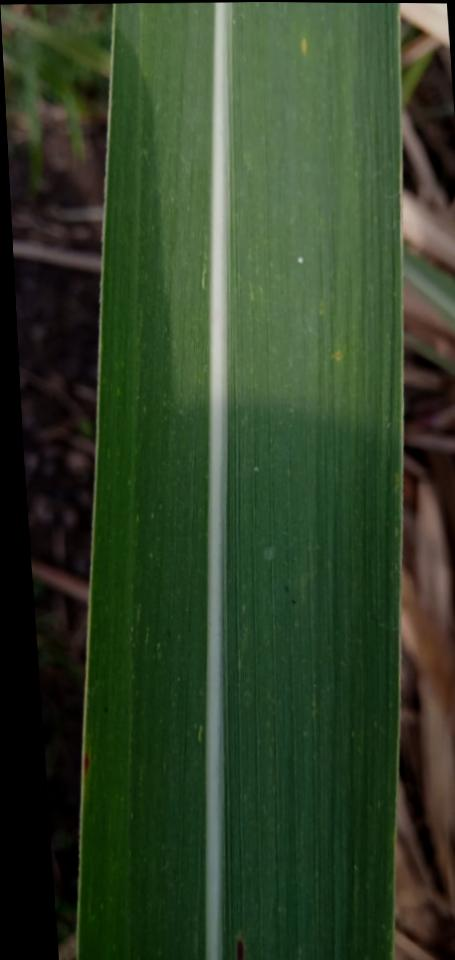Healthy: (77, 2, 403, 960)
